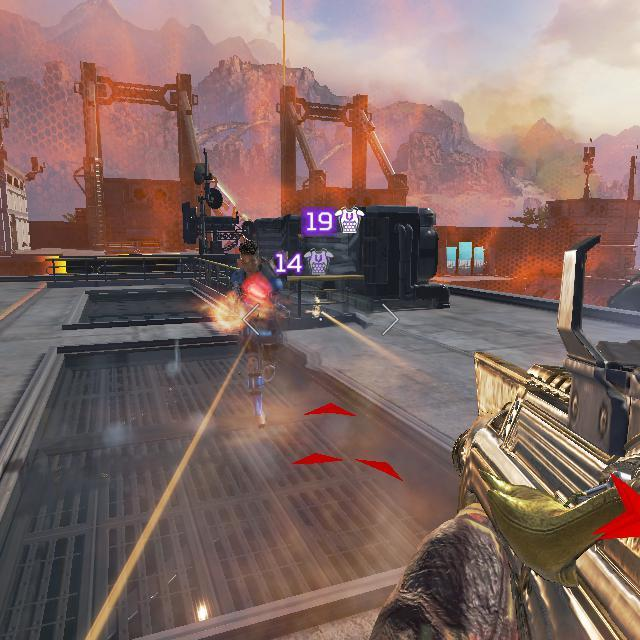avatar: (226, 240, 286, 431)
